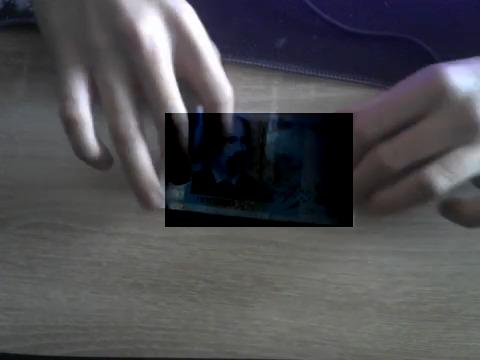20leva: (165, 113, 353, 227)
